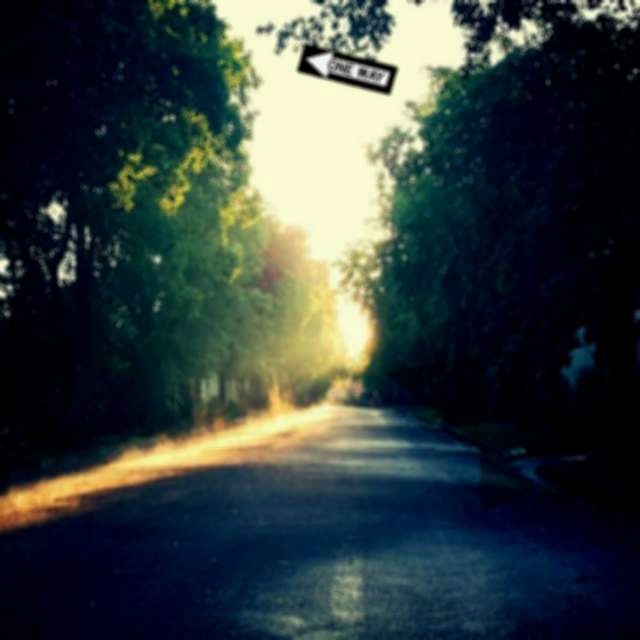ONE_WAY_ left: (296, 43, 398, 95)
